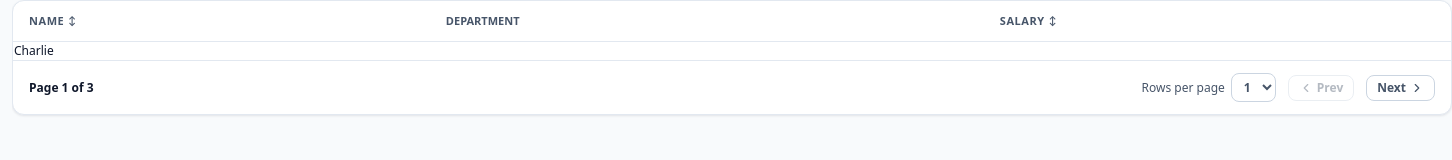
Test: DataTable Component (P1-2) › handles pagination next and prev in client mode with custom pageSizeOptions
The width and height of the screenshot is (1452, 160).
Expected: the text with test id "pagination-page" reads "Page 1 of 3", [29,80,94,96]
Expected: the button with test id "pagination-prev" is disabled, [1288,74,1354,100]
// Click Next
Click the button with test id "pagination-next" at (1401, 88), box [1366,74,1435,100]
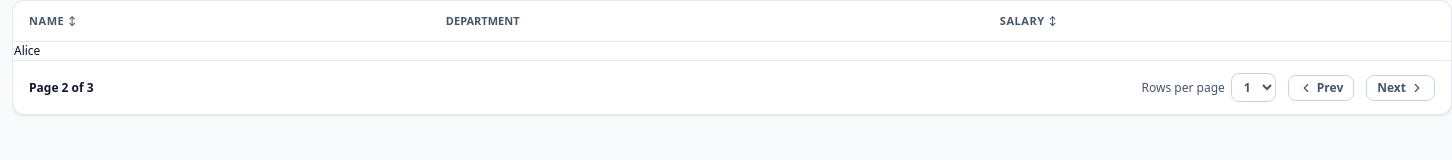
Expected: the text with test id "pagination-page" reads "Page 2 of 3", [29,80,94,96]
Expected: the button with test id "pagination-prev" is enabled, [1288,74,1354,100]
// Click Next again
Click the button with test id "pagination-next" at (1401, 88), box [1366,74,1435,100]
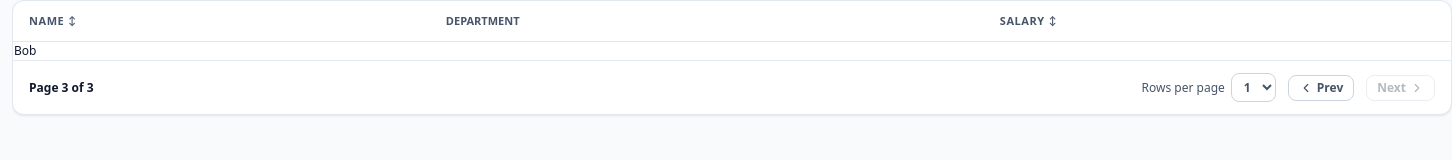
Expected: the text with test id "pagination-page" reads "Page 3 of 3", [29,80,94,96]
Expected: the button with test id "pagination-next" is disabled, [1366,74,1435,100]
// Click Prev
Click the button with test id "pagination-prev" at (1321, 88), box [1288,74,1354,100]
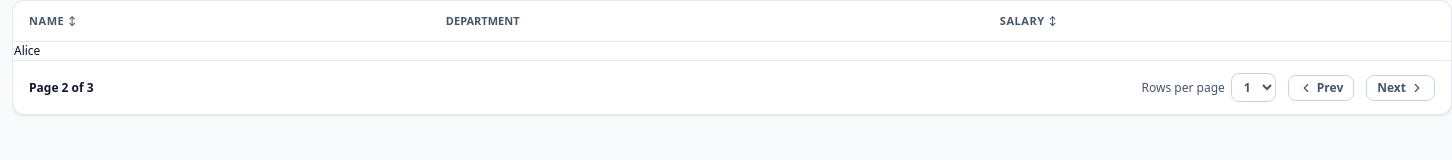
Expected: the text with test id "pagination-page" reads "Page 2 of 3", [29,80,94,96]
